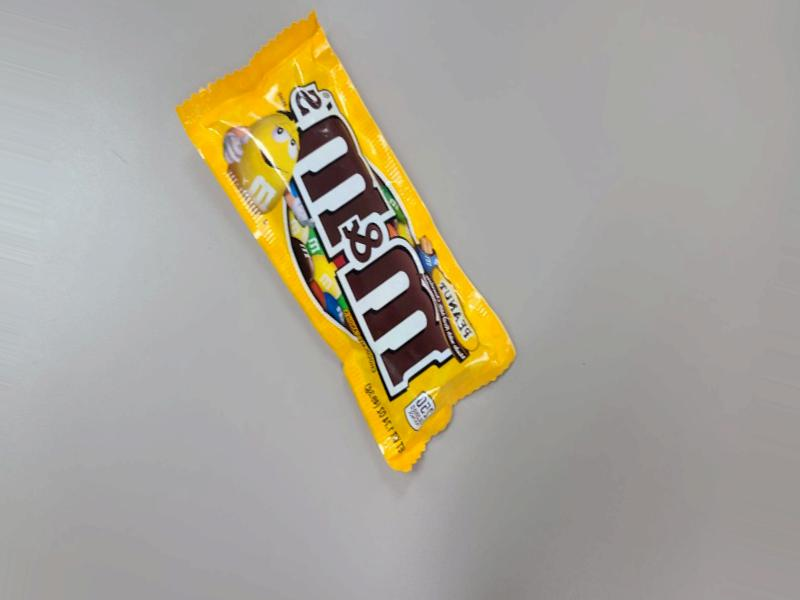m&m: (161, 56, 527, 458)
